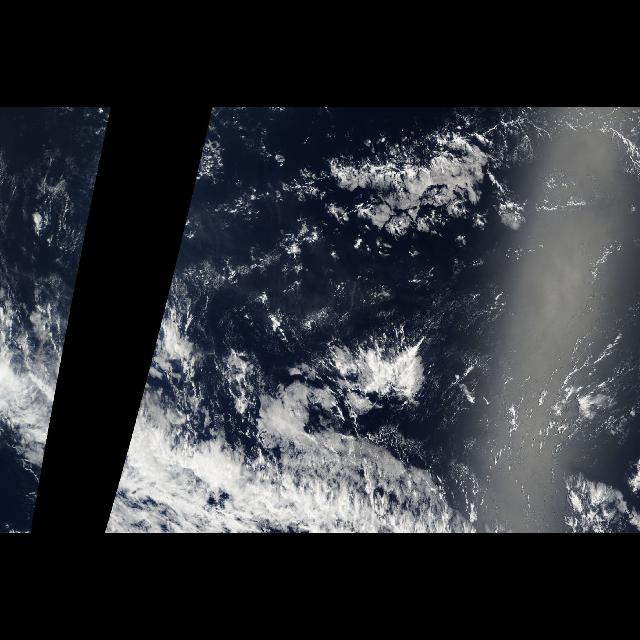Sugar: (314, 135, 544, 237)
